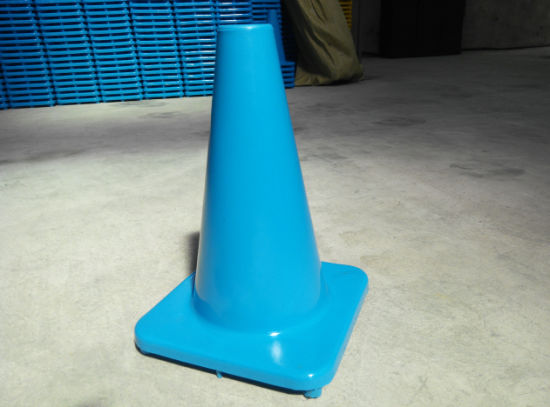cone: (128, 19, 372, 401)
